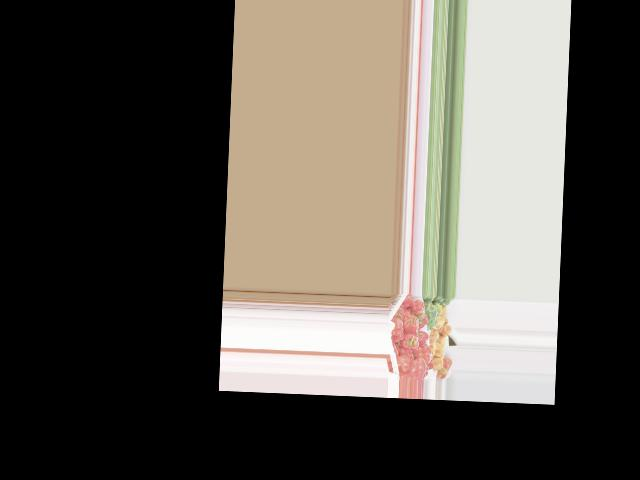bell_pepper: (389, 317, 404, 343)
